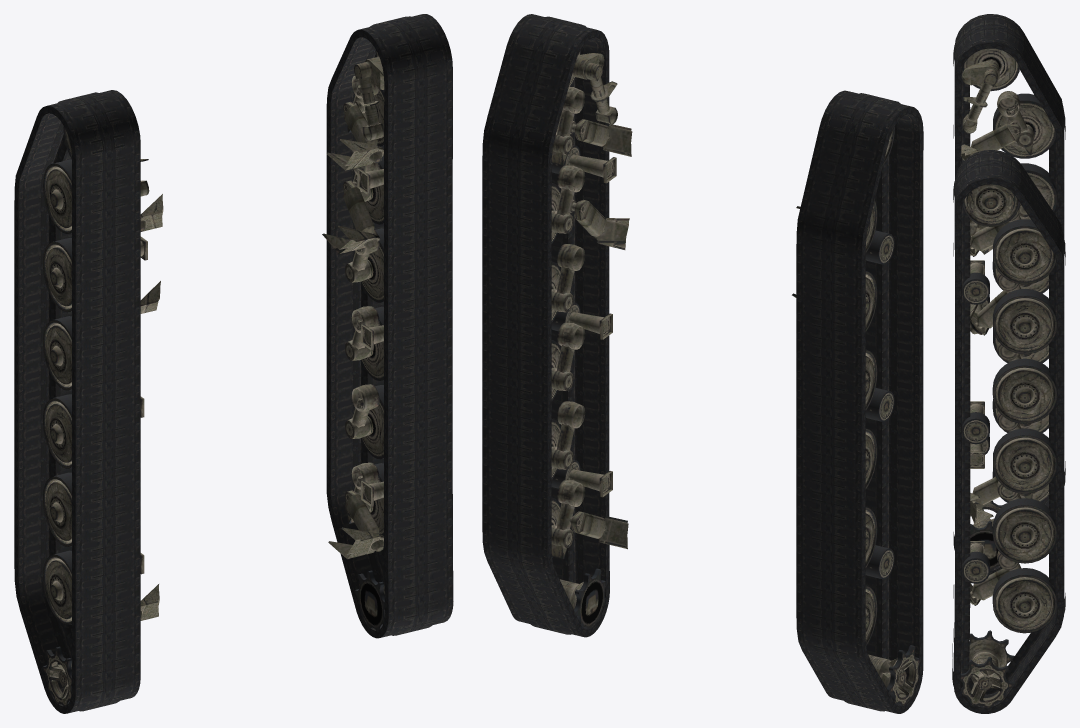
Rendered from Chassis.glb.
The picture shows the model from 3 angles, left to right: view 1: azimuth 30°, elevation 25°; view 2: azimuth 150°, elevation 25°; view 3: azimuth 270°, elevation 25°; orthographic projection. The views are drawn at different scales.
Parts seen in each view (by area): view 1: set_0_group_0, set_1_group_0, set_3_group_0, set_2_group_0; view 2: set_0_group_0, set_1_group_0, set_3_group_0, set_2_group_0; view 3: set_3_group_0, set_1_group_0, set_2_group_0, set_0_group_0.
Boxes of the visible parts, bbox=[...] form: set_0_group_0: bbox=[14, 90, 140, 713]; set_1_group_0: bbox=[326, 14, 453, 638]; set_3_group_0: bbox=[322, 50, 384, 630]; set_2_group_0: bbox=[42, 126, 163, 706]; set_0_group_0: bbox=[796, 90, 923, 713]; set_1_group_0: bbox=[482, 14, 609, 637]; set_3_group_0: bbox=[551, 50, 632, 629]; set_2_group_0: bbox=[792, 127, 919, 705]; set_3_group_0: bbox=[960, 184, 1057, 707]; set_1_group_0: bbox=[952, 150, 1065, 713]; set_2_group_0: bbox=[961, 48, 1056, 571]; set_0_group_0: bbox=[953, 14, 1065, 574].
Bounding box in the file's own units: 3.43 × 5.25 × 1.
Materials: 4 (4 with a texture image).
